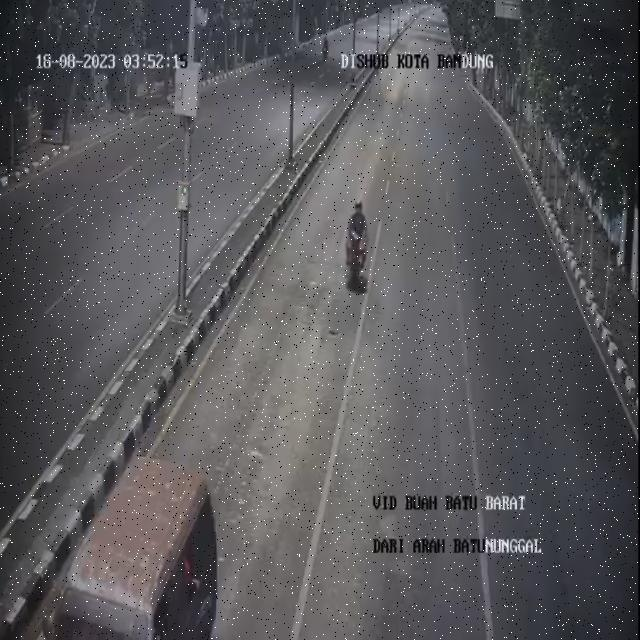cars: (43, 457, 216, 640)
motorcycle: (341, 197, 375, 293)
